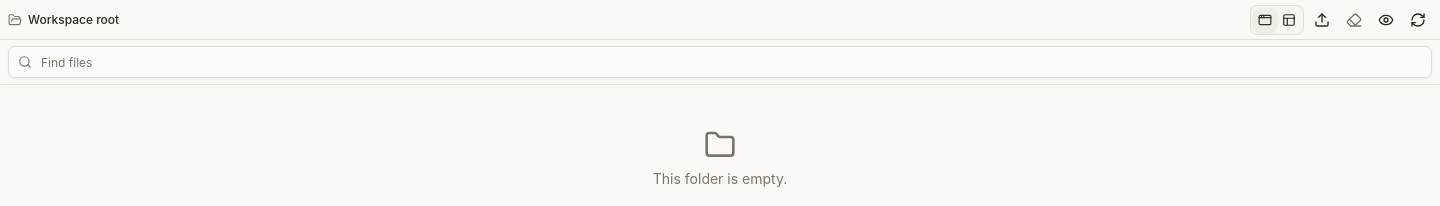
Test: WorkspaceFilesTab › opens workspace actions from blank-space right-click
The image size is (1440, 206).
Step 1. Right-click the text "This folder is empty." → (720, 179), box [653,169,787,189]
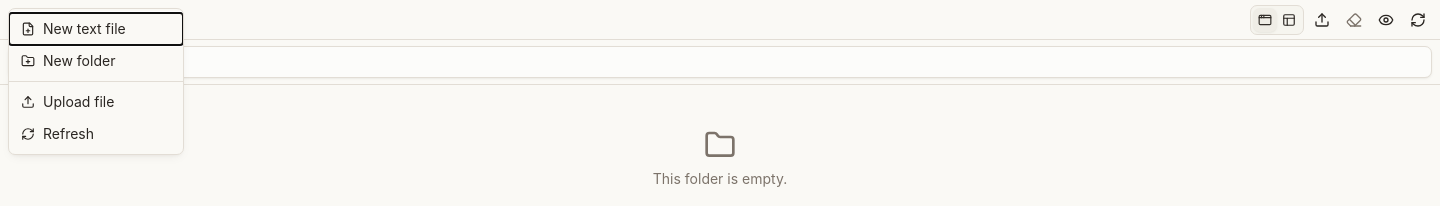
Now the menu item "New text file" is shown, box [9,13,183,45]
Now the menu item "New folder" is shown, box [9,45,183,77]
Now the menu item "Upload file" is shown, box [9,86,183,118]
